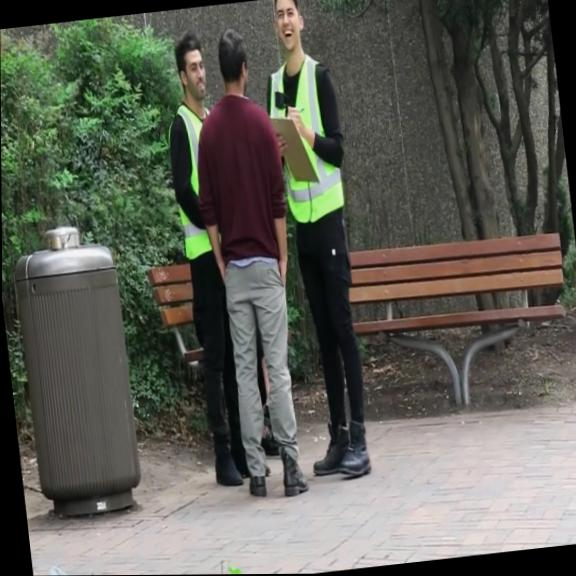safety_vest: (263, 50, 347, 226), (163, 97, 227, 259)
